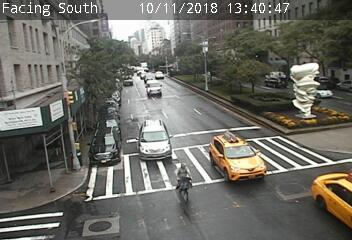car: (209, 134, 267, 183), (138, 120, 171, 162), (89, 127, 119, 166), (146, 80, 162, 97), (265, 76, 287, 88)
